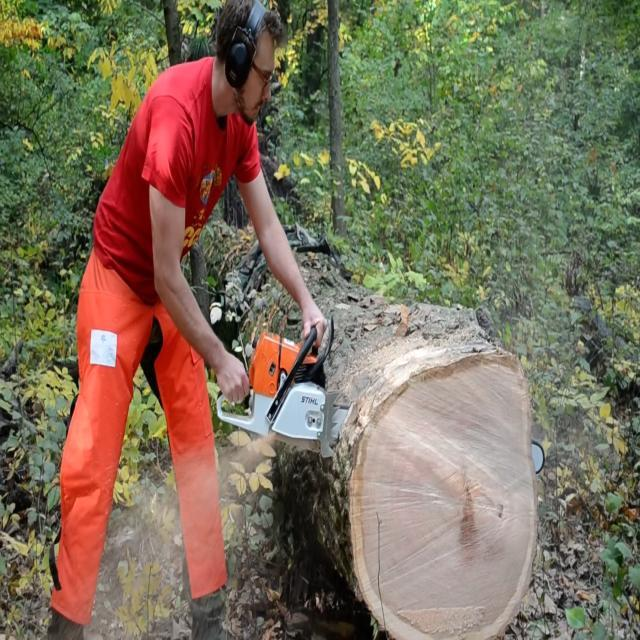Chainsaw: (205, 290, 557, 524)
